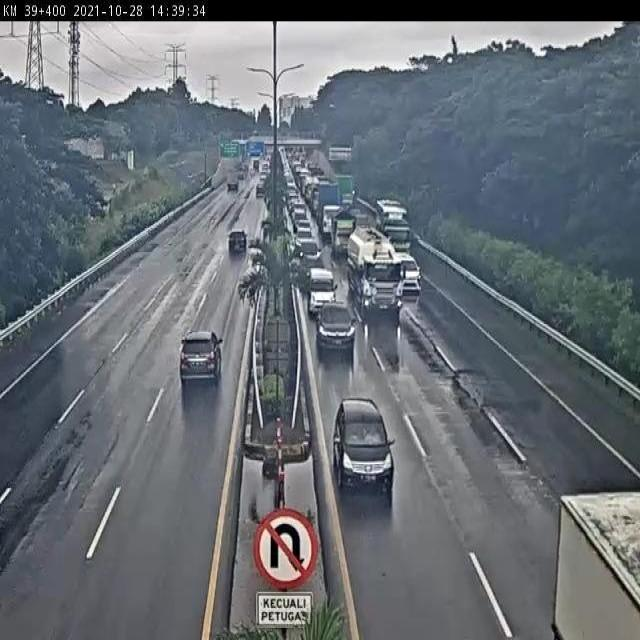Car: (330, 387, 396, 501), (179, 329, 224, 387), (314, 299, 358, 357), (307, 268, 337, 318), (397, 253, 422, 300), (228, 230, 247, 253)
Truck: (341, 224, 402, 322)
